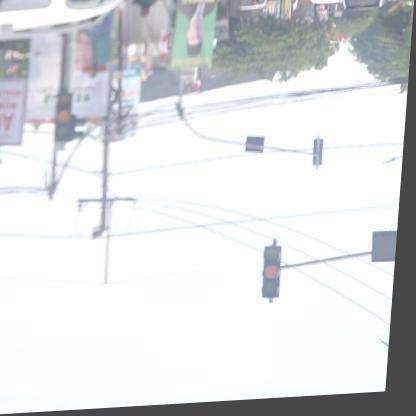yellow: (264, 247, 288, 302), (57, 92, 75, 144)
